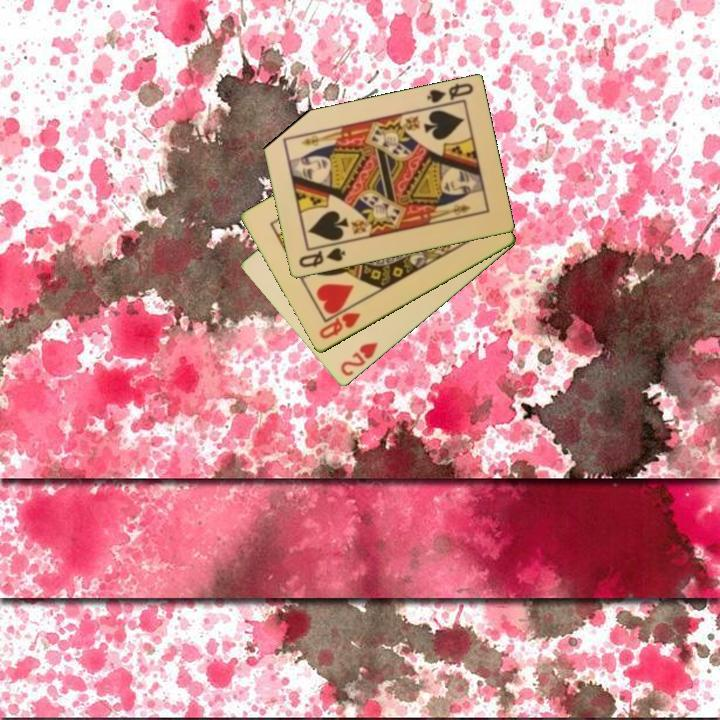2h: (337, 339, 381, 380)
Qh: (315, 309, 363, 342)
Qs: (295, 244, 348, 271), (423, 80, 476, 106)
